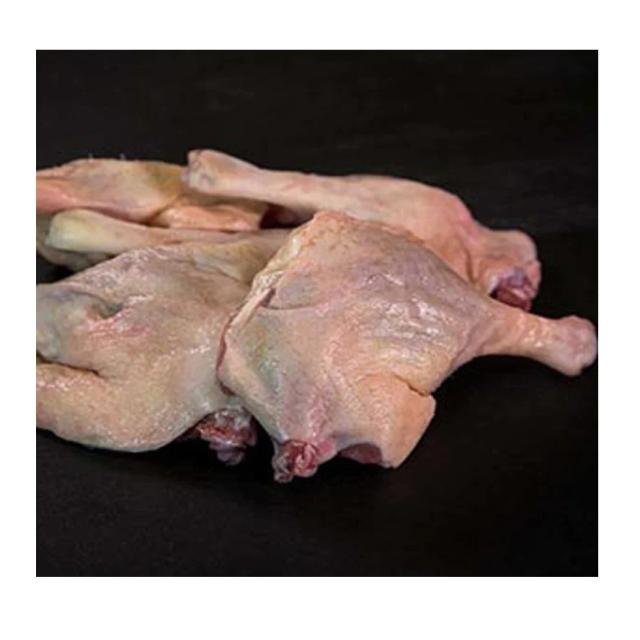duck: (38, 151, 595, 482)
